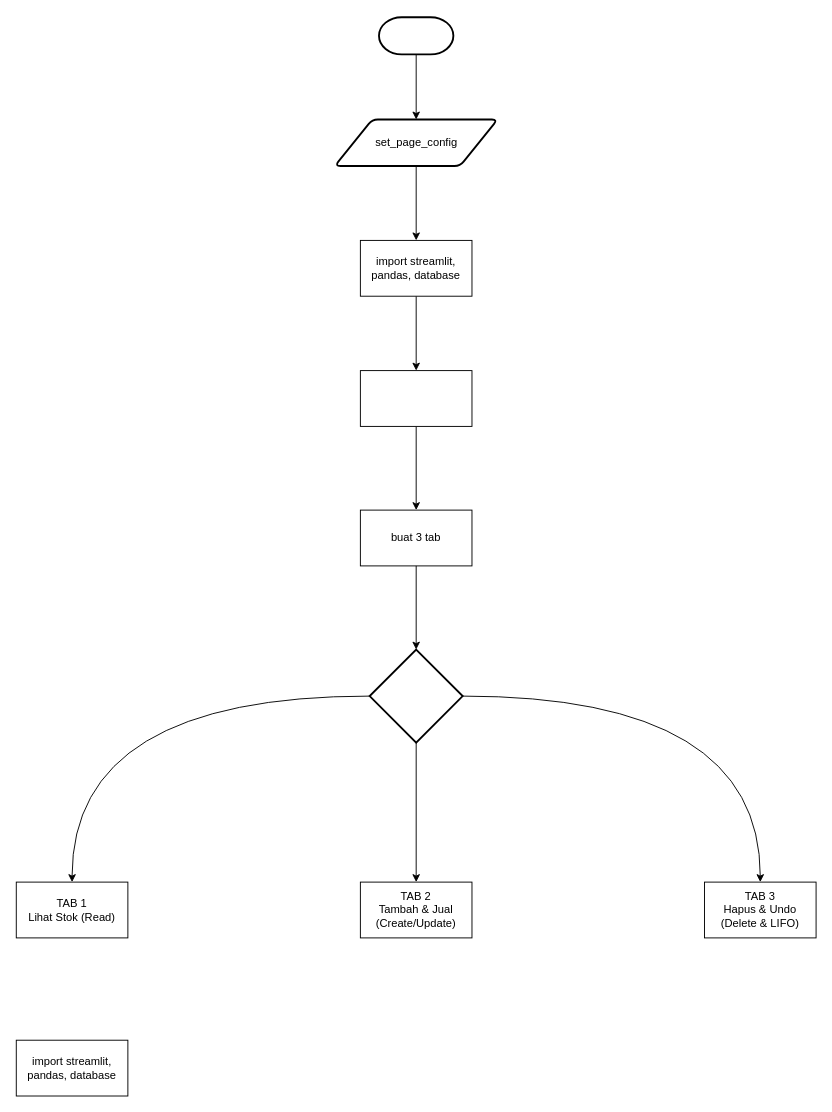
This 832x1112 diagram has some shape labels left out. Here are the shapes that lost their labels. From the top down, the centre of each, then its label:
(416,35): START
(415,398): st.title + markdown
(415,695): user pilih tab?
